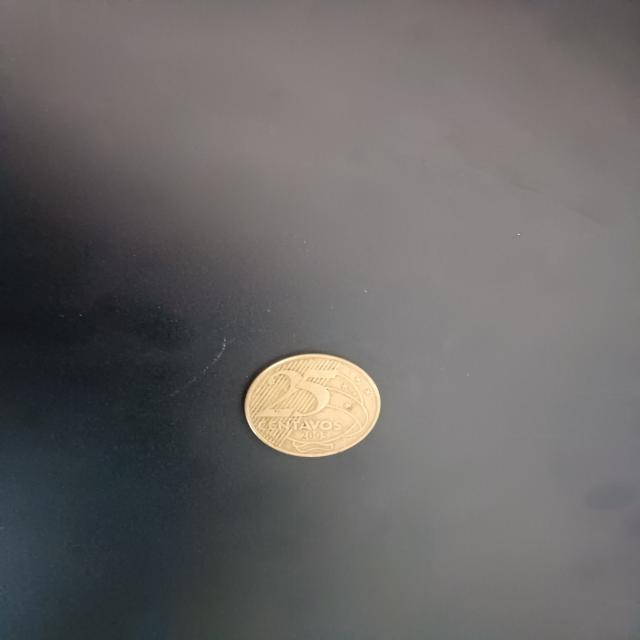25 cents: (240, 352, 383, 458)
